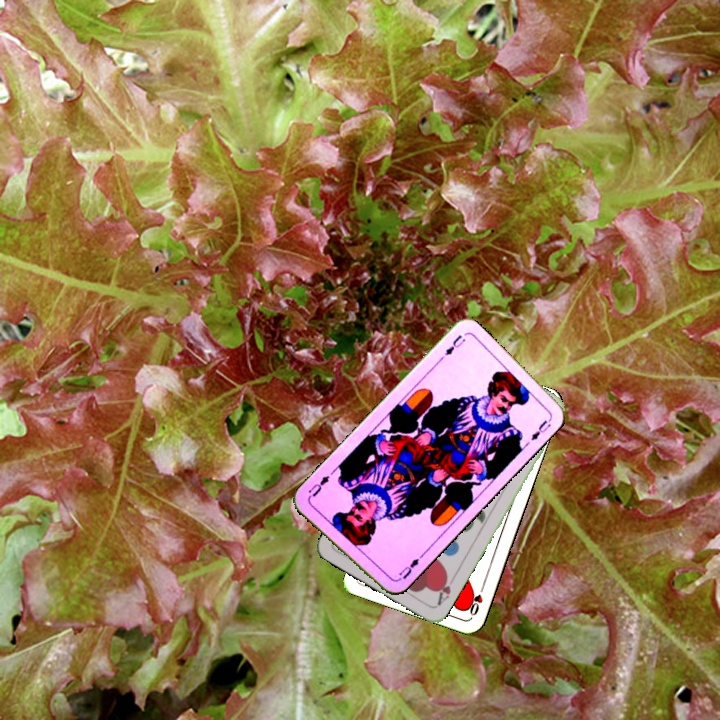EU: (393, 554, 422, 584), (441, 330, 468, 358)
HA: (433, 570, 458, 608)
HO: (464, 580, 487, 618)
